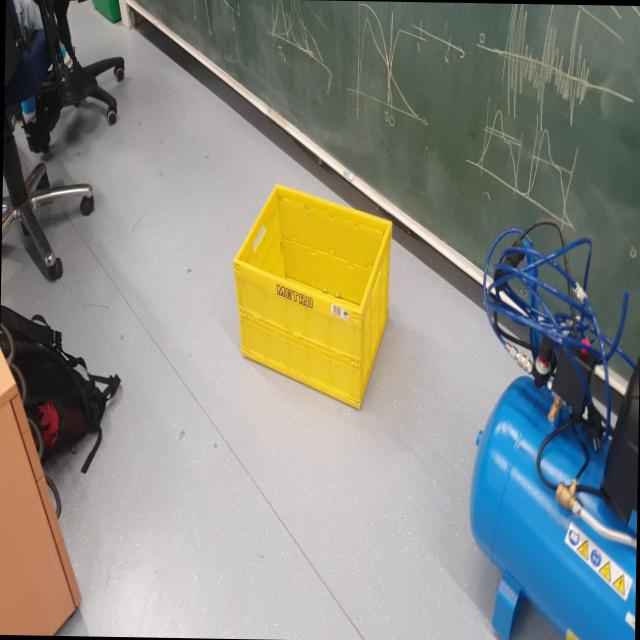box: (213, 172, 404, 433)
